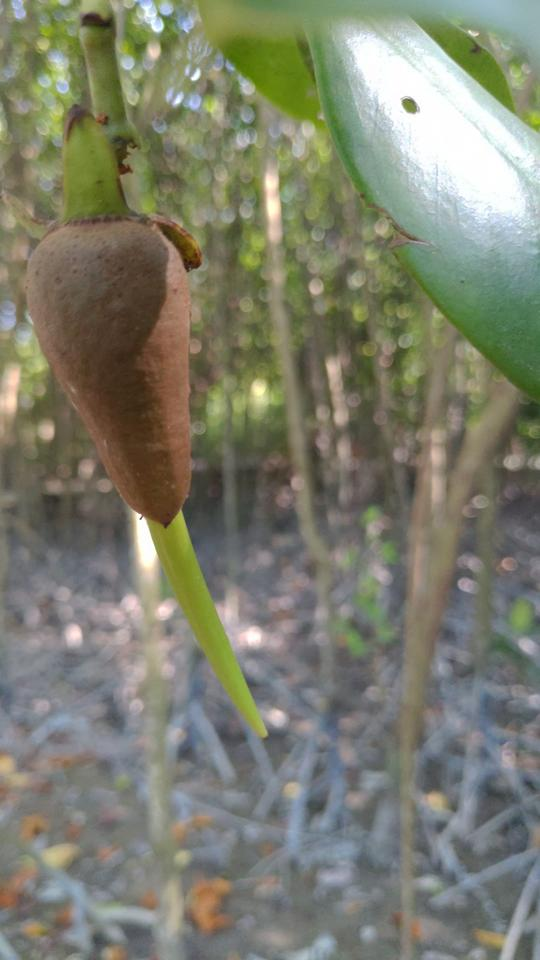mentah: (5, 89, 289, 758)
